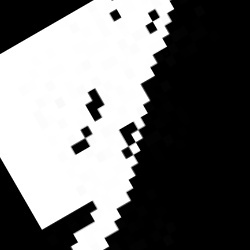spot: (0, 1, 174, 248)
